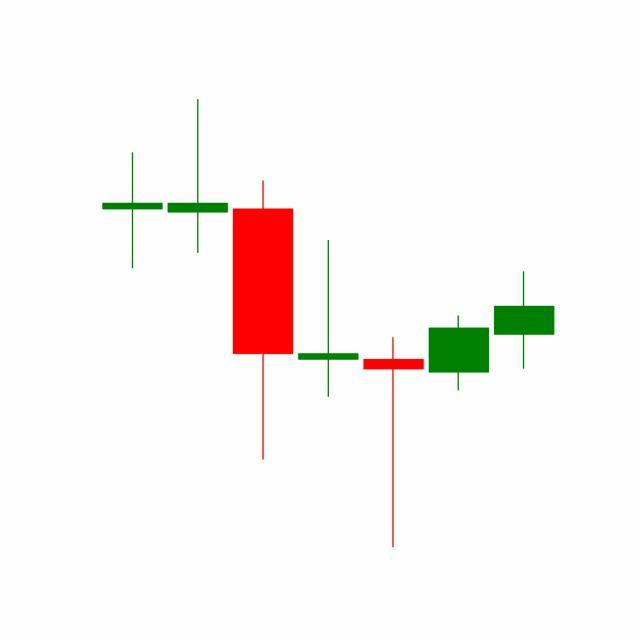Three Outside Up-Down: (360, 267, 556, 548)
